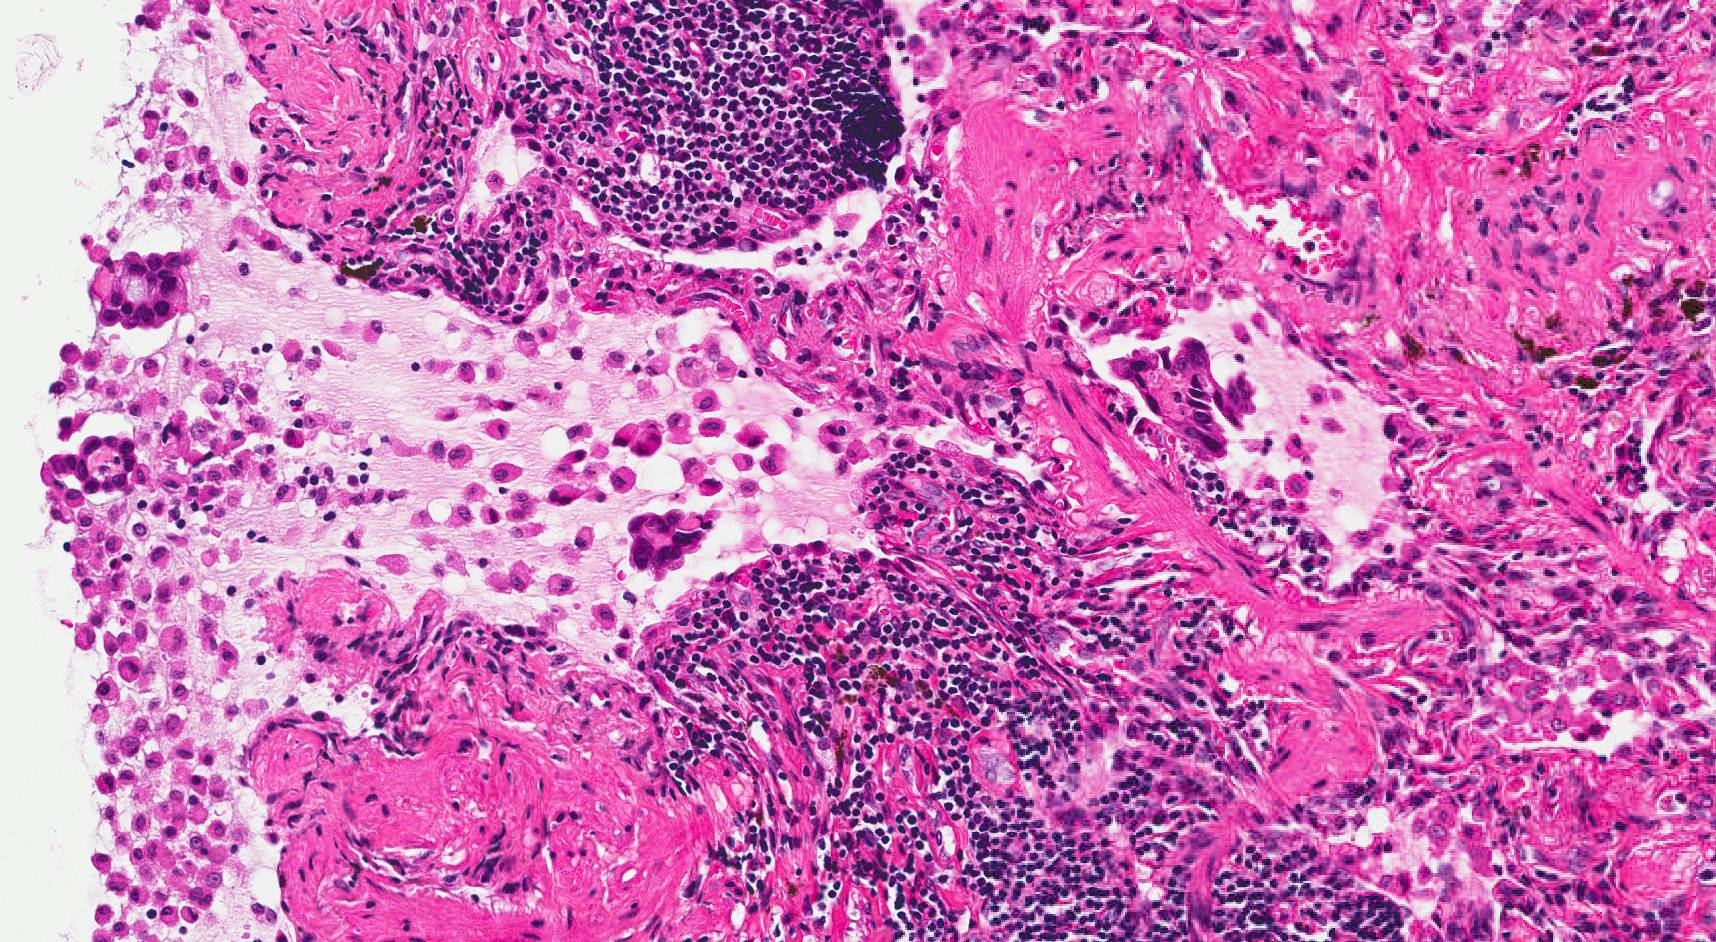stas: (1109, 337, 1260, 463), (86, 250, 199, 331), (629, 506, 708, 579), (73, 434, 136, 494)
